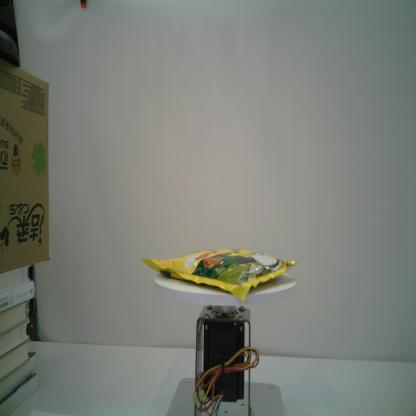Seasoner: (140, 246, 310, 304)
